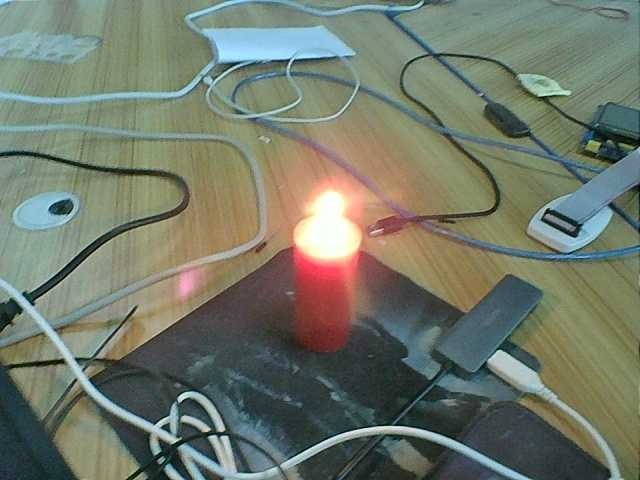candle: (292, 251, 366, 354)
fire: (306, 191, 355, 252)
